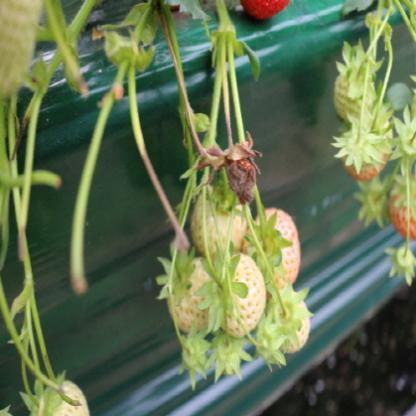Strawberry_Gray_Mold: (223, 132, 264, 206)
